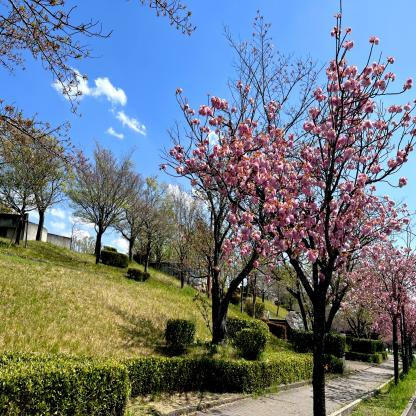YaeSakura: (219, 11, 416, 313), (160, 79, 296, 291), (0, 0, 113, 115), (62, 132, 140, 233), (0, 111, 71, 214), (156, 185, 200, 281), (363, 233, 402, 330), (188, 188, 223, 286), (127, 173, 165, 260), (110, 165, 145, 247), (344, 249, 378, 327), (398, 240, 416, 335), (408, 294, 416, 350)
